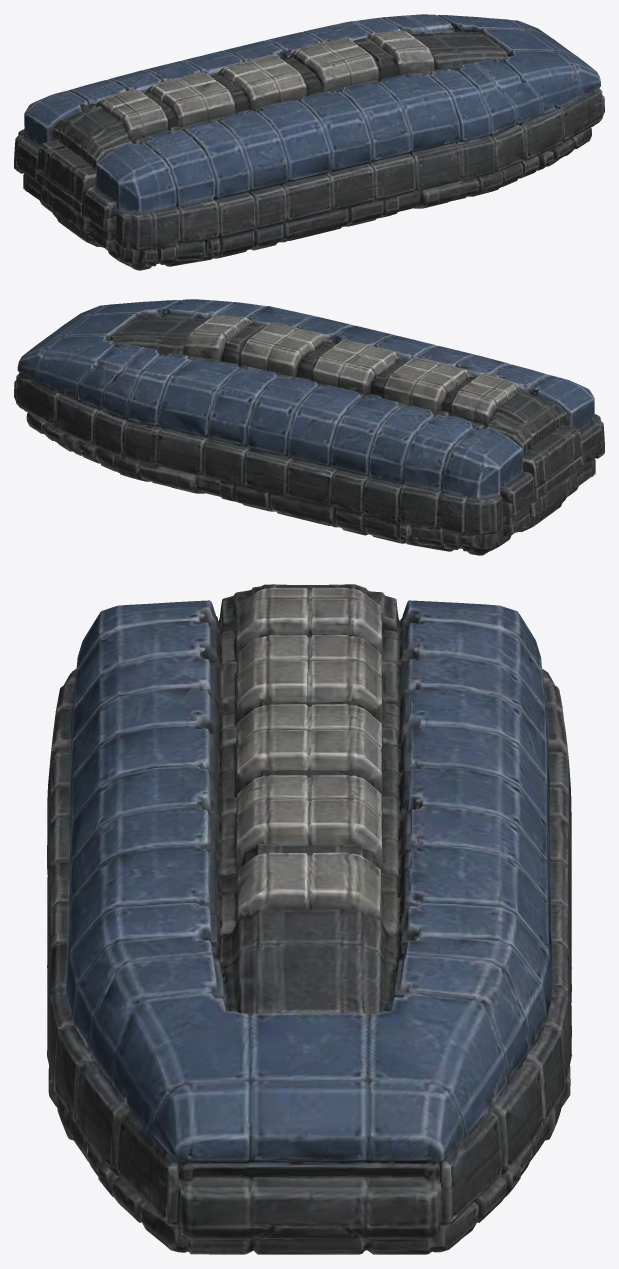
The model's file is arc-longshot-lean.glb.
3 views of the same model, one above another, from view 1: azimuth 30°, elevation 25°; view 2: azimuth 150°, elevation 25°; view 3: azimuth 270°, elevation 25° (orthographic). The views are drawn at different scales.
Parts seen in each view (by area): view 1: chassis; view 2: chassis; view 3: chassis.
Boxes of the visible parts, left/top/right/bottom form: chassis: left=14, top=14, right=604, bottom=270; chassis: left=14, top=299, right=604, bottom=555; chassis: left=47, top=584, right=571, bottom=1254.
Size of the model in its own units: 0.9899 by 0.2373 by 0.4358.
Materials: 1 (1 with a texture image).
